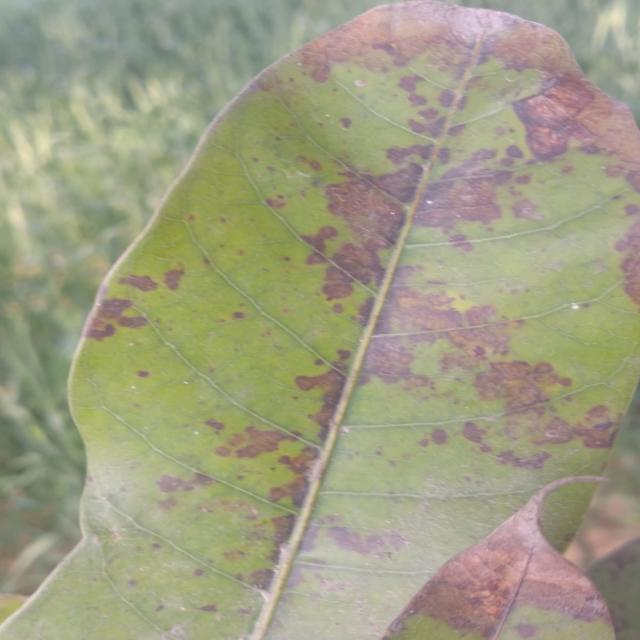Anthracnose: (369, 490, 631, 640), (298, 4, 471, 82), (316, 158, 417, 262), (508, 68, 613, 166), (441, 292, 528, 377), (472, 355, 573, 413), (293, 359, 364, 440), (484, 16, 571, 80), (411, 176, 503, 233), (501, 400, 579, 453), (569, 398, 627, 458), (329, 234, 391, 290), (362, 332, 420, 390), (373, 160, 432, 211), (325, 524, 406, 560), (351, 190, 396, 244), (530, 412, 578, 460), (616, 222, 639, 304), (393, 305, 461, 332), (236, 426, 295, 457), (277, 444, 324, 482), (267, 470, 310, 509), (387, 142, 435, 166), (118, 268, 159, 295), (323, 266, 353, 301), (496, 450, 550, 469), (84, 315, 118, 344), (271, 514, 299, 546), (396, 68, 425, 96), (459, 419, 488, 446), (447, 230, 477, 255), (440, 352, 477, 372), (464, 304, 496, 326), (96, 299, 131, 319), (295, 152, 324, 174), (157, 475, 193, 492), (512, 200, 543, 219), (251, 567, 274, 590), (423, 116, 447, 138), (358, 297, 375, 326), (405, 117, 428, 137), (158, 495, 180, 513), (118, 316, 148, 329), (165, 270, 184, 290), (205, 415, 226, 433), (446, 122, 468, 139), (194, 473, 219, 487), (419, 106, 440, 122), (516, 623, 538, 638), (306, 252, 328, 265), (439, 90, 455, 107), (432, 429, 449, 445), (223, 550, 245, 562), (214, 444, 232, 458), (408, 94, 427, 106), (455, 94, 468, 111), (507, 145, 523, 158), (266, 199, 286, 209), (438, 148, 450, 164), (515, 174, 531, 185), (199, 603, 218, 612), (624, 204, 639, 215), (418, 437, 431, 449), (338, 349, 351, 361), (126, 577, 139, 589), (501, 158, 514, 167), (332, 303, 343, 313), (341, 118, 351, 128), (232, 312, 245, 319), (192, 569, 204, 576), (137, 370, 149, 377)
Powdery Mildew: (118, 268, 159, 295), (165, 270, 184, 290), (473, 10, 493, 23), (199, 603, 218, 612)
